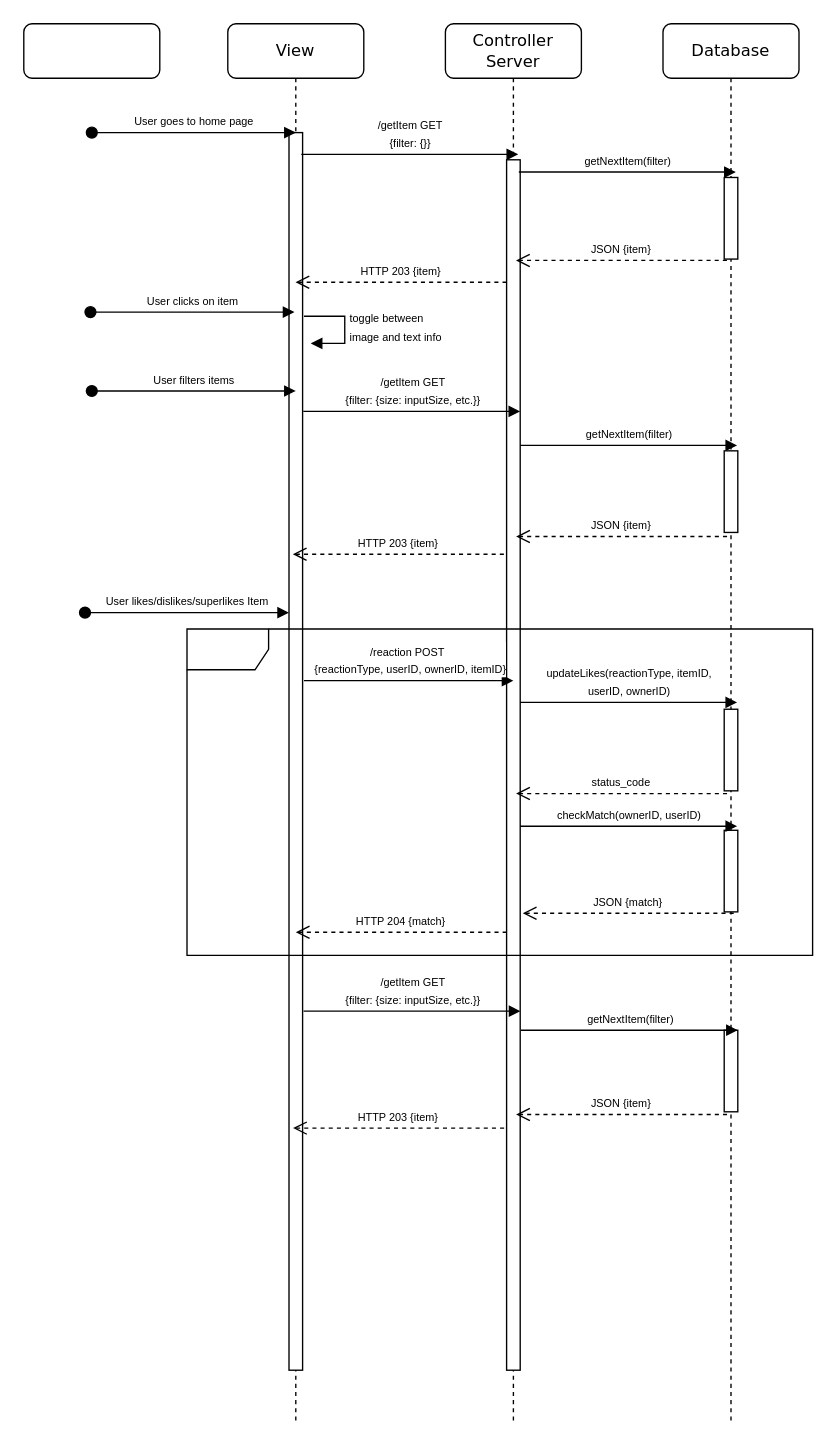
Image size: 836x1448. Some labels were removed from this diagram. The centre of each missing label's shape, as x and y in pixels:
Alt 1: Like/superlike: the point at 499,791
User: the point at 91,50
